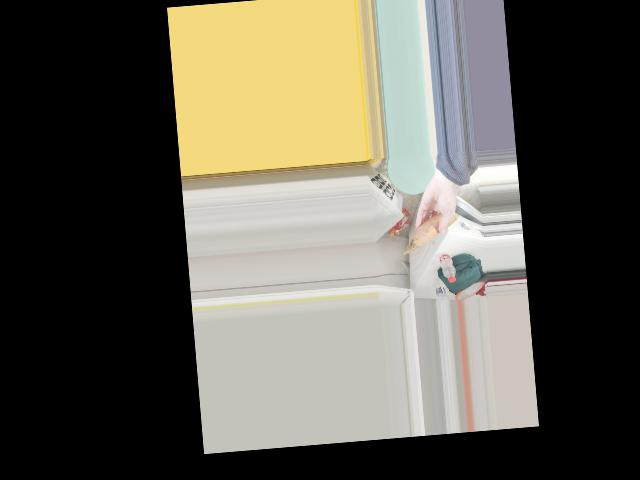sweet_potato: (415, 213, 450, 246)
